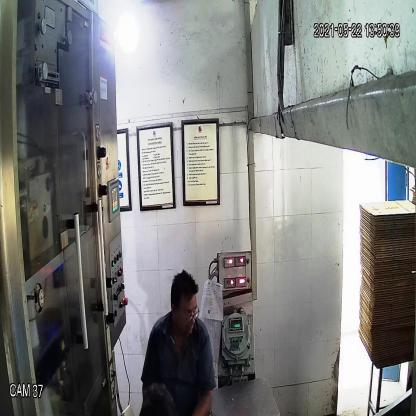goggles: (169, 299, 201, 324)
